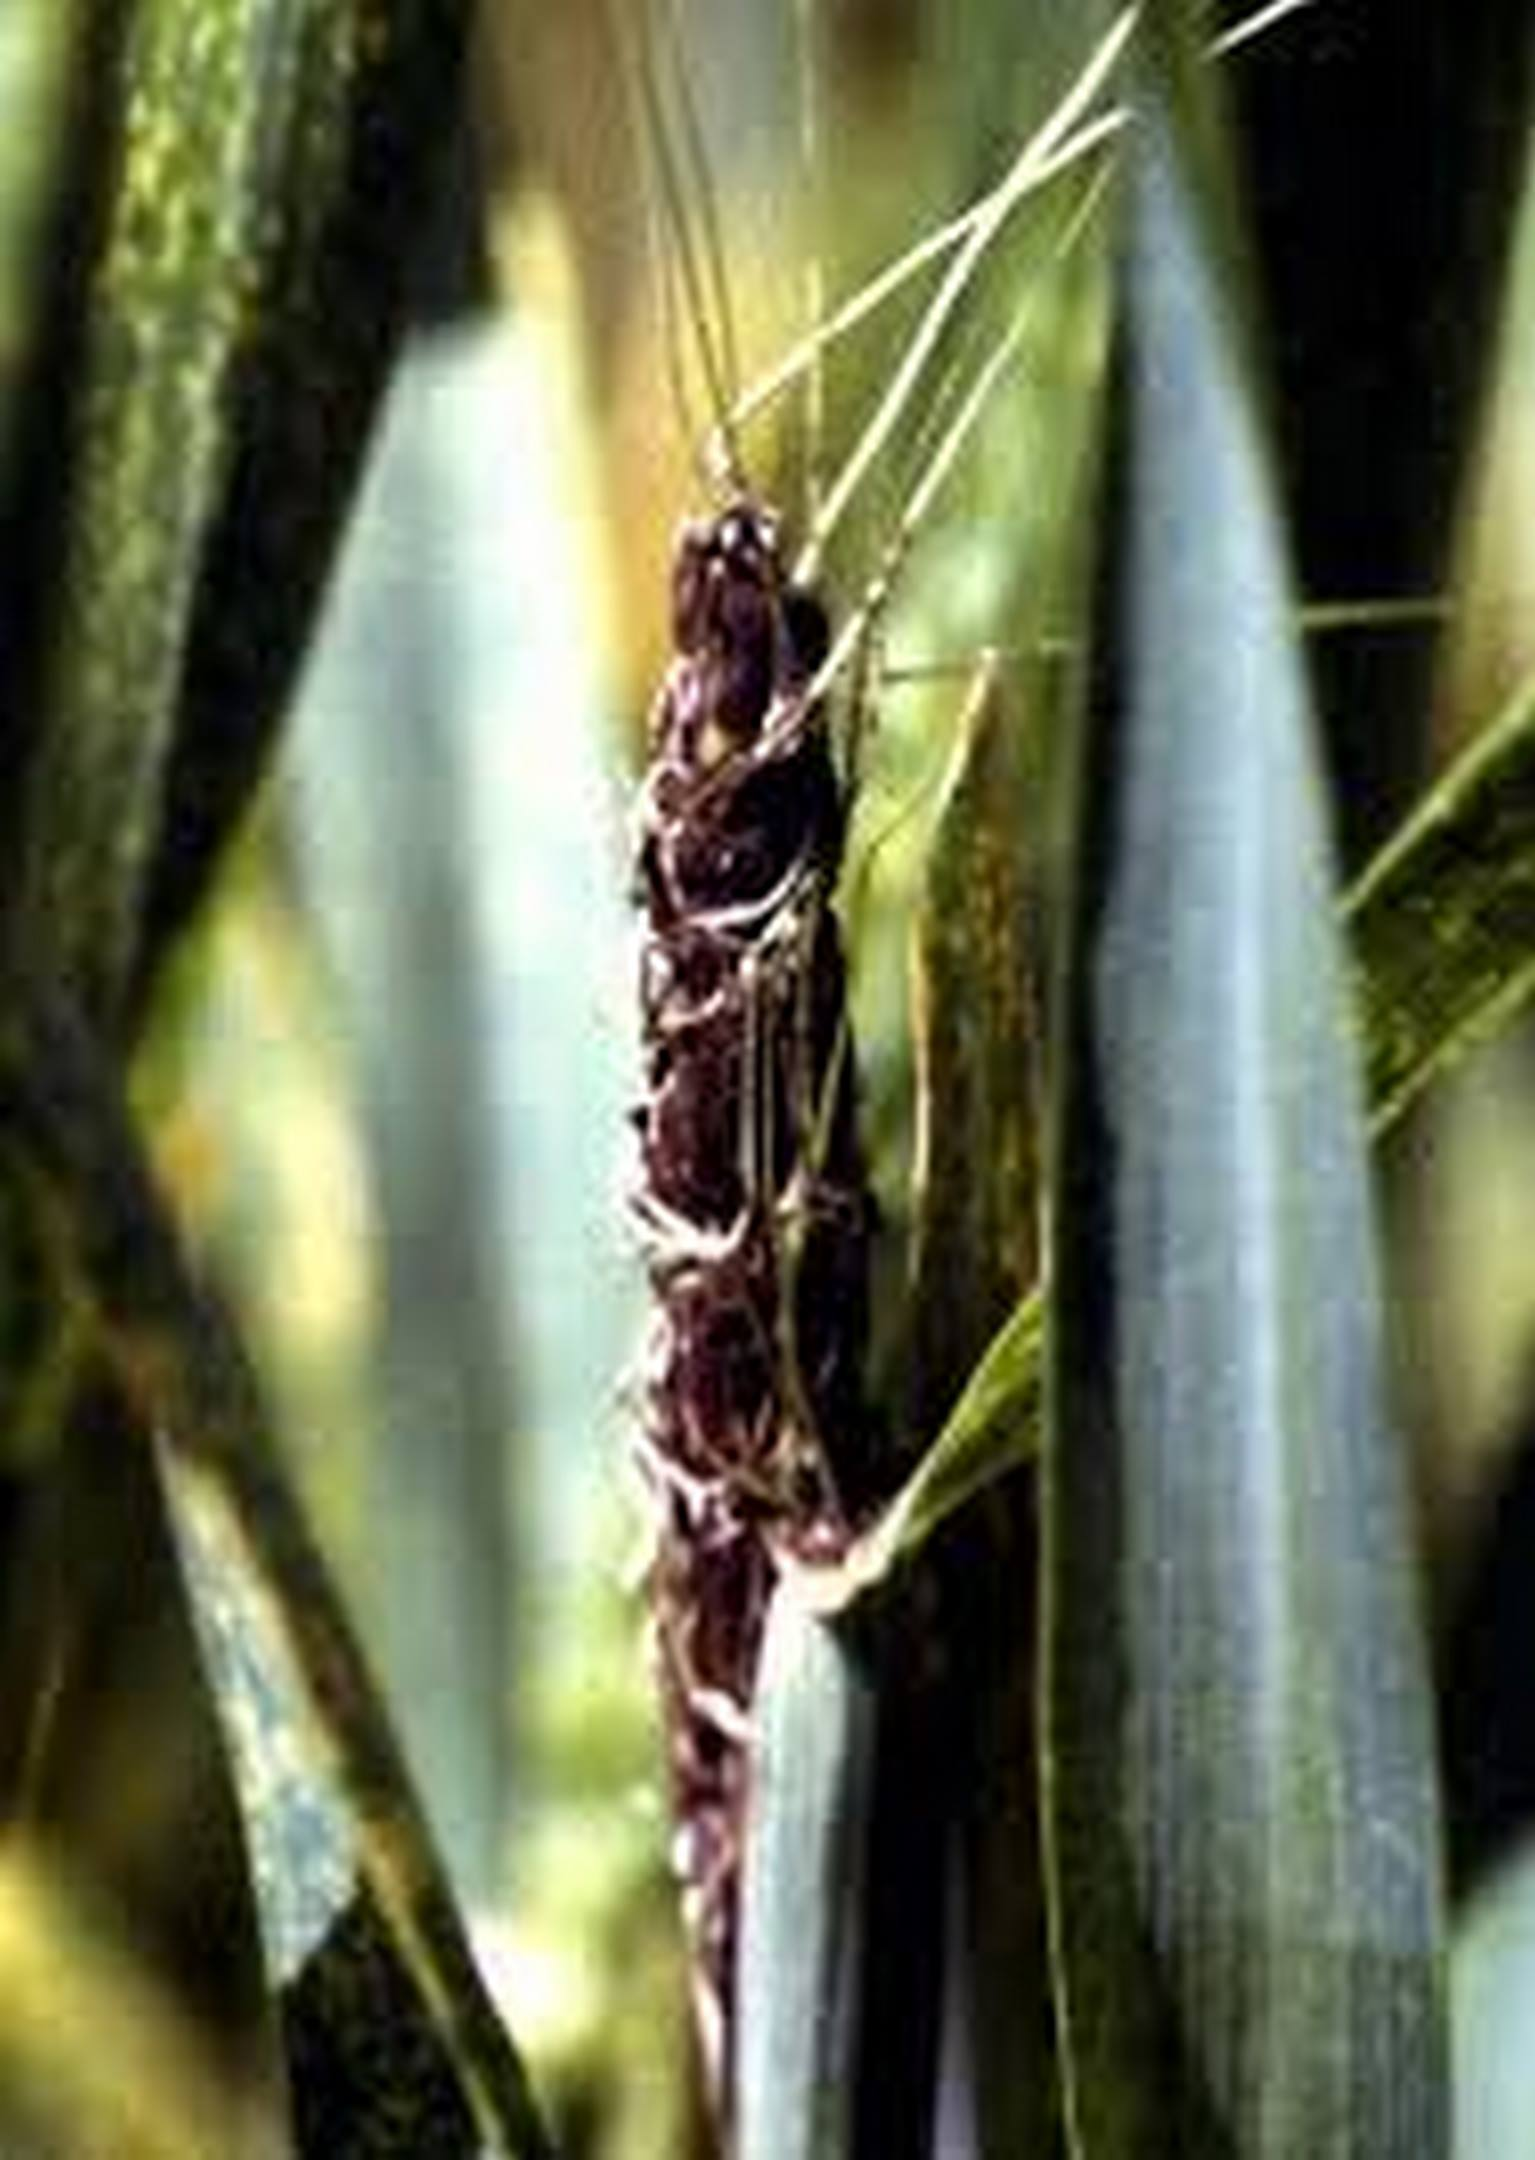Wheat Loose Smut: (508, 417, 905, 1901)
